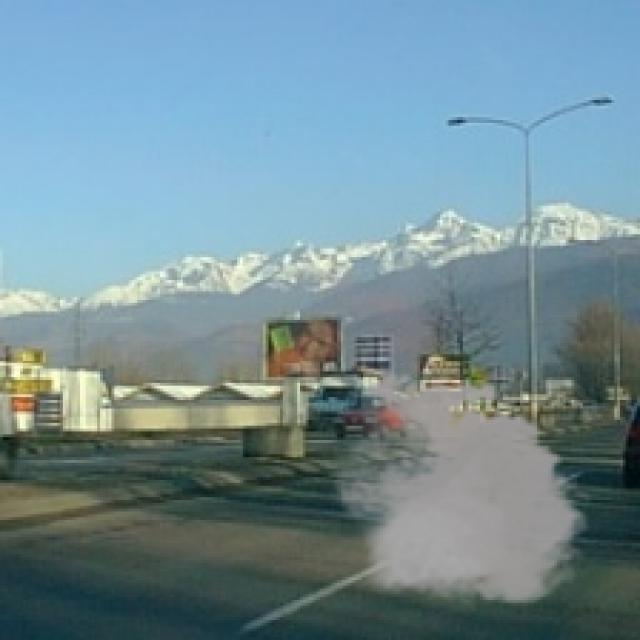Smoke: (320, 366, 597, 614)
